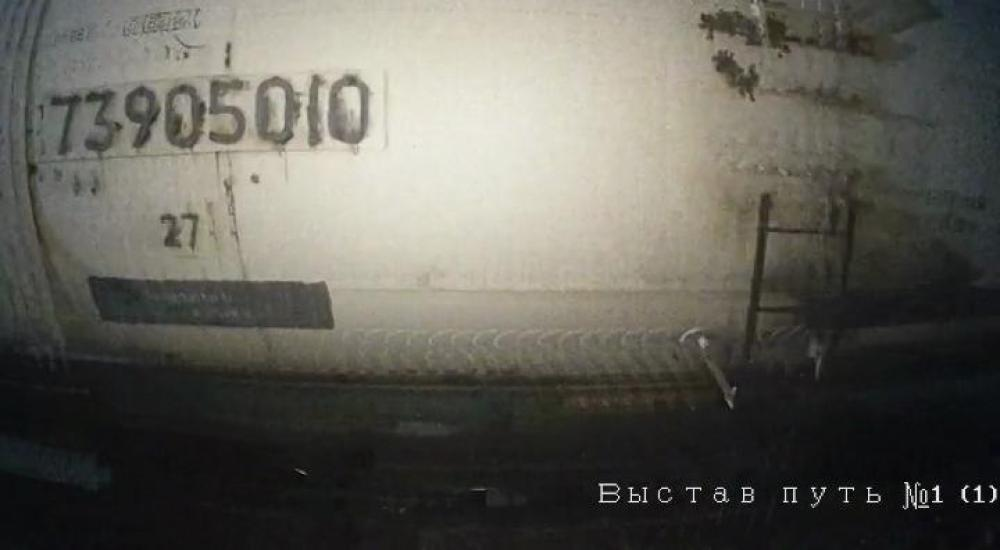Wagon-number: (45, 73, 378, 160)
